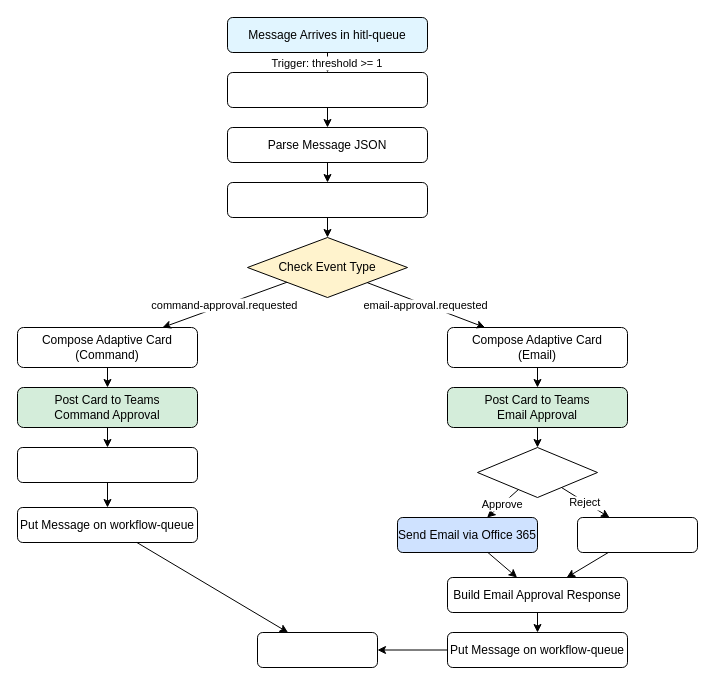
This 715x685 diagram has some shape labels left out. Here are the shapes that lost their labels. From the top down, the centre of each, then its label:
At (x=327, y=90): "Get Messages from Queue".
At (x=327, y=200): "Delete Message from Queue".
At (x=107, y=464): "Build Approval Response".
At (x=537, y=472): "Check Response".
At (x=637, y=534): "Skip Email Send".
At (x=317, y=650): "Complete".
